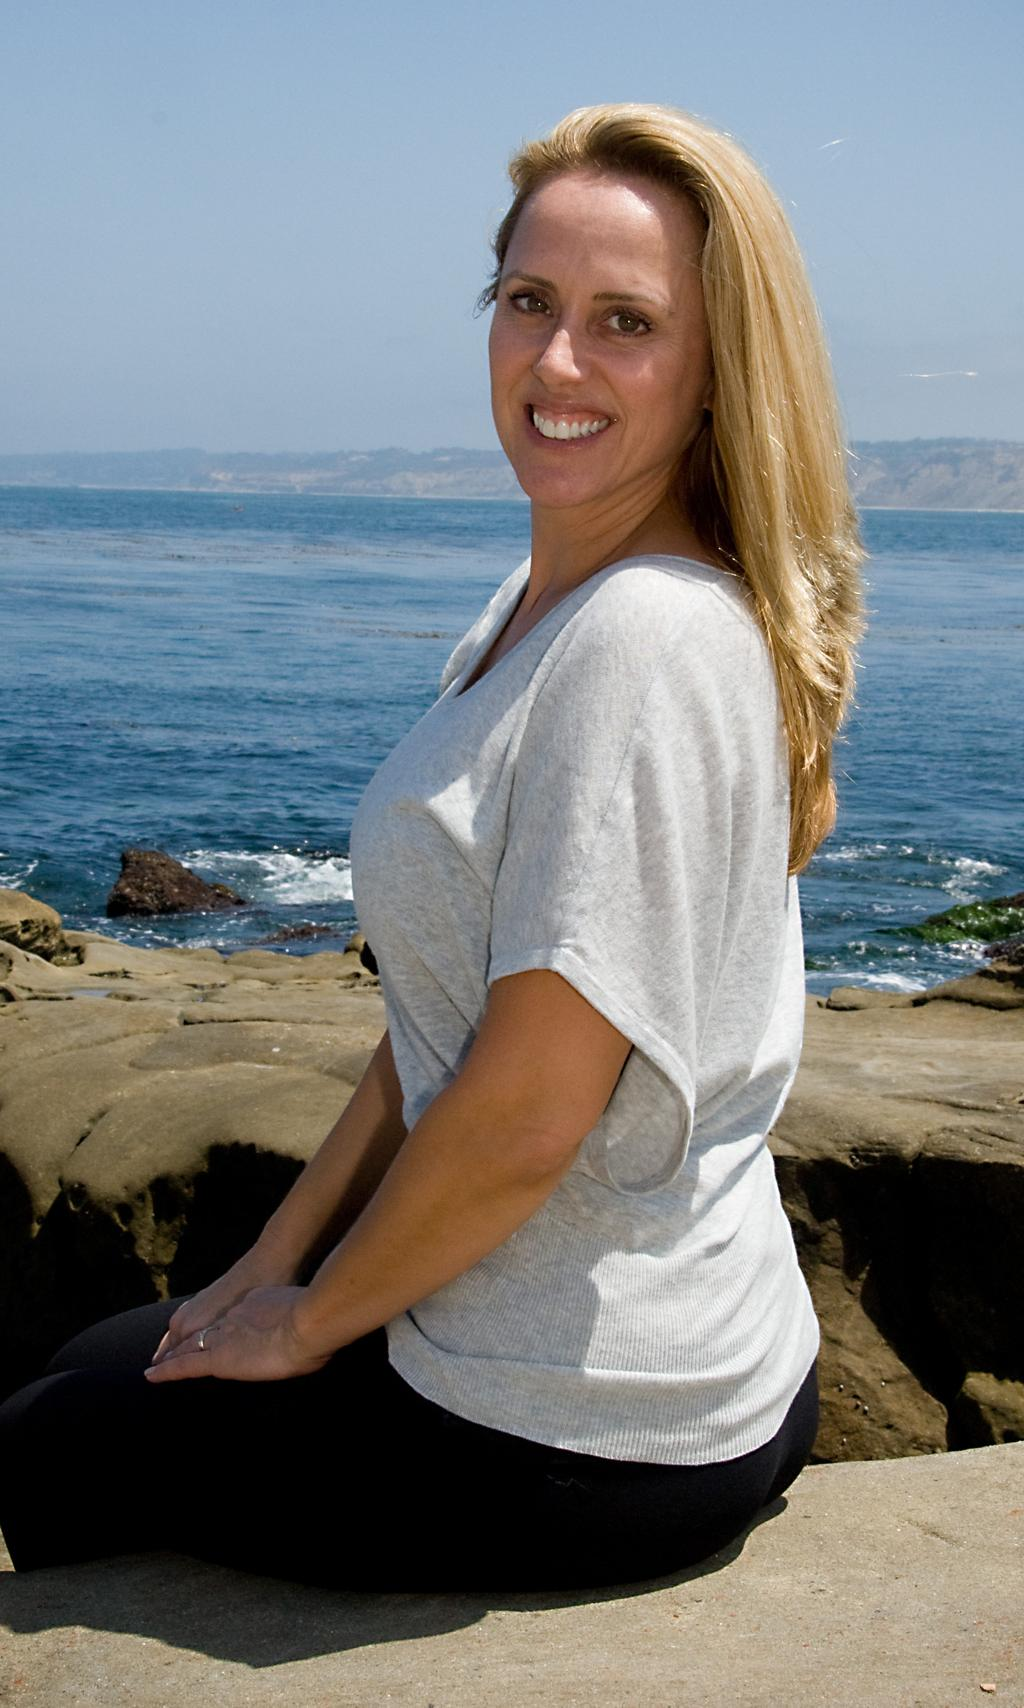face: (490, 187, 703, 497)
